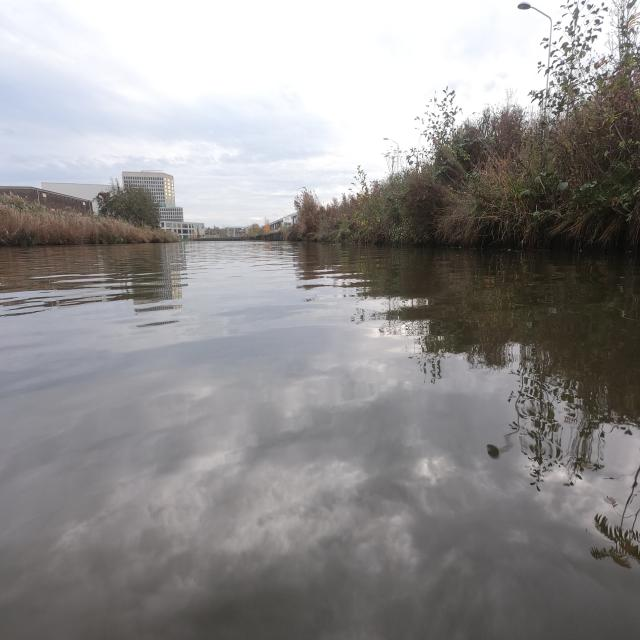reed: (287, 0, 640, 251), (0, 198, 172, 246)
sky: (3, 2, 557, 223)
water: (1, 238, 639, 639)
